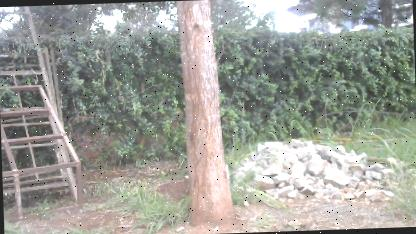tree: (172, 0, 239, 233)
